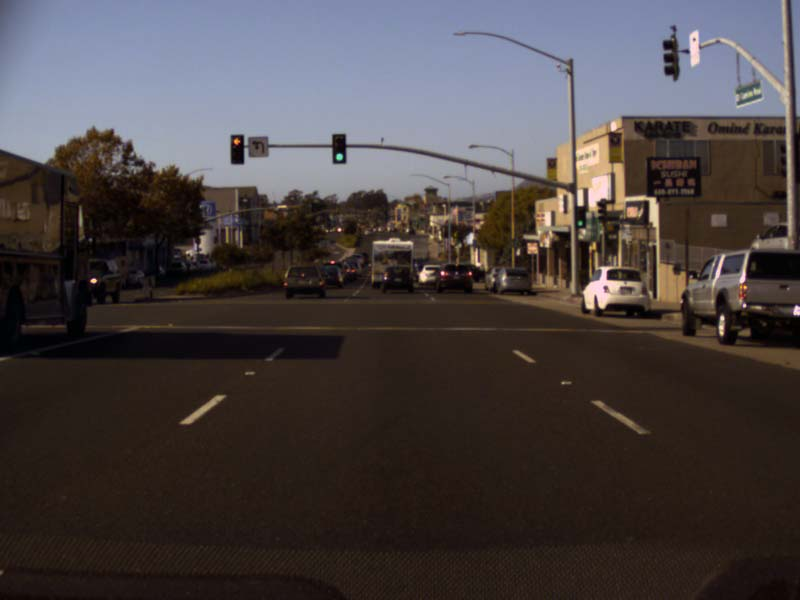Green: (332, 134, 345, 162), (575, 207, 584, 227)
Red: (230, 136, 243, 163)
